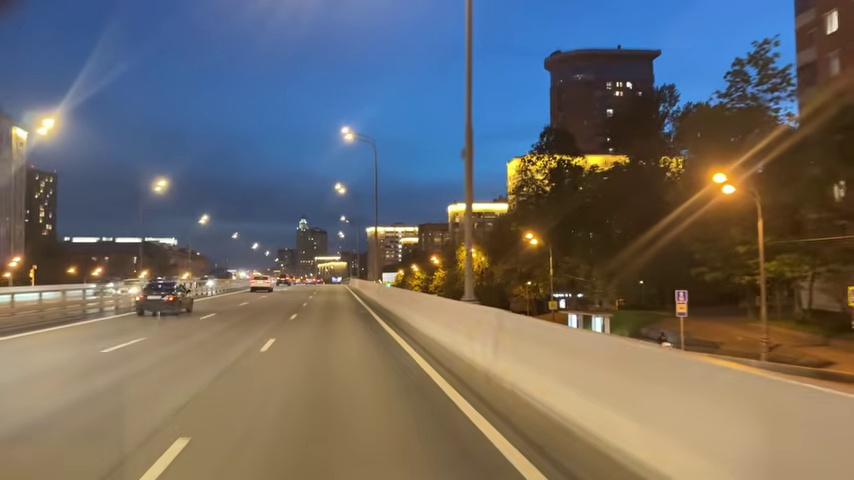acesa: (705, 167, 742, 201), (34, 113, 59, 139), (522, 229, 542, 251), (150, 175, 170, 196), (4, 254, 24, 275), (340, 125, 357, 144), (11, 125, 27, 145), (195, 212, 211, 229), (333, 181, 348, 197)
